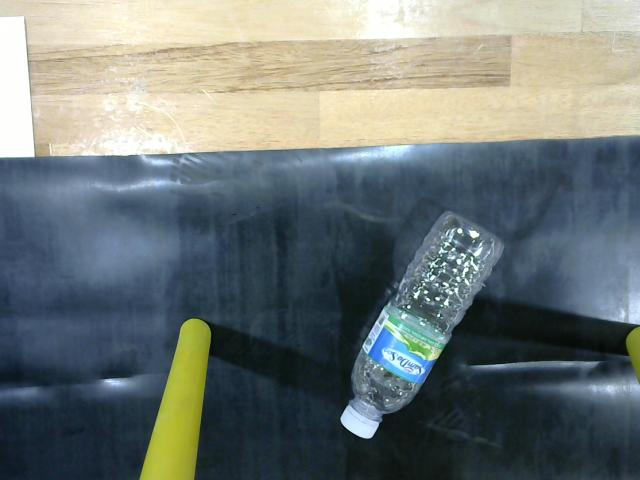bottle: (326, 191, 519, 454)
